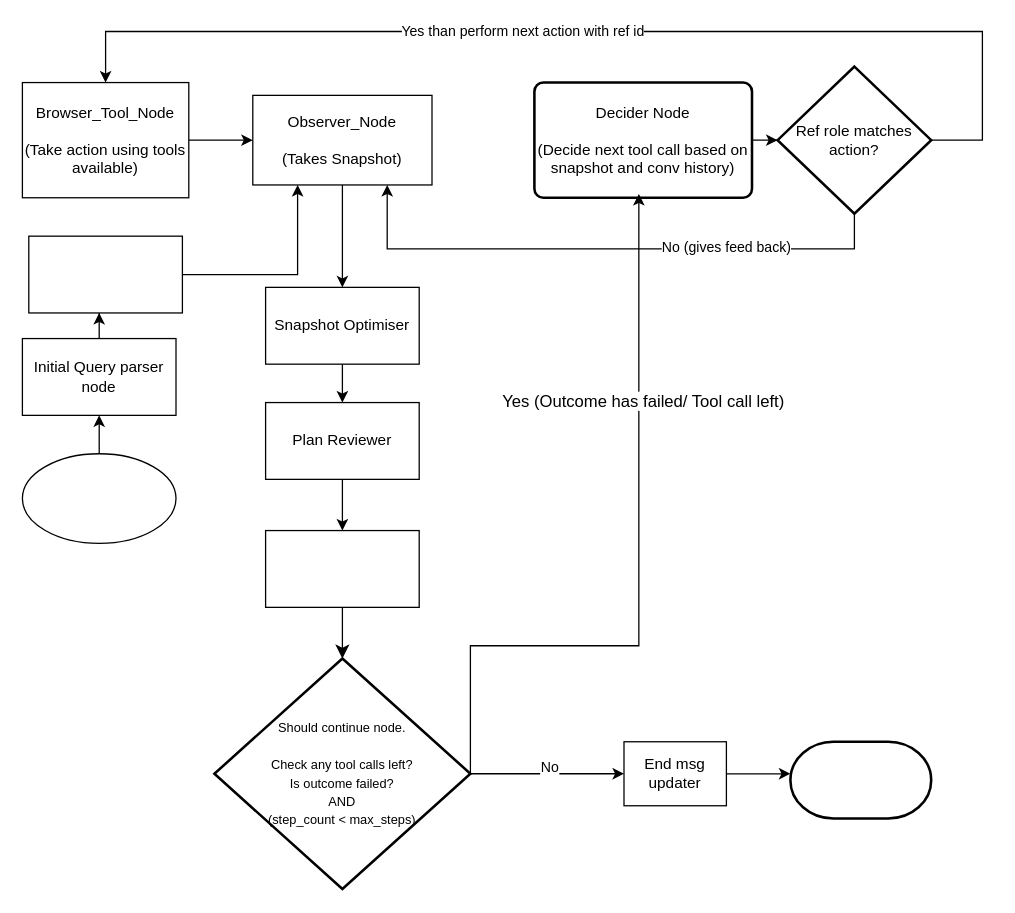
Image size: 1015x913. Some labels were removed from this diagram. The shapes that lost their labels are listed below. From the top down, each one's centre as x and y in pixels, then its label:
At point 105,274: "Initial Navigation Node".
At point 98,497: "Query".
At point 341,568: "Goal_Checking_Node".
At point 860,779: "END".
